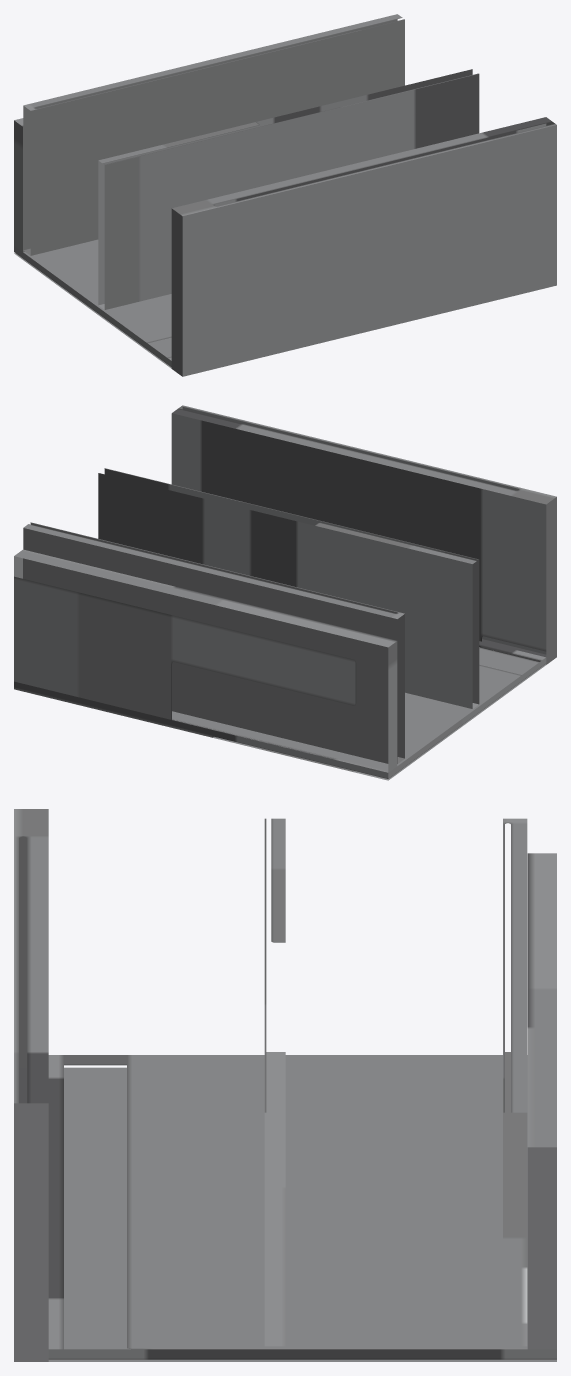
3 views of the same model, one above another, from view 1: azimuth 30°, elevation 25°; view 2: azimuth 150°, elevation 25°; view 3: azimuth 270°, elevation 25° (orthographic). The views are drawn at different scales.
Size of the model in its own units: 1 by 0.41 by 0.78.
